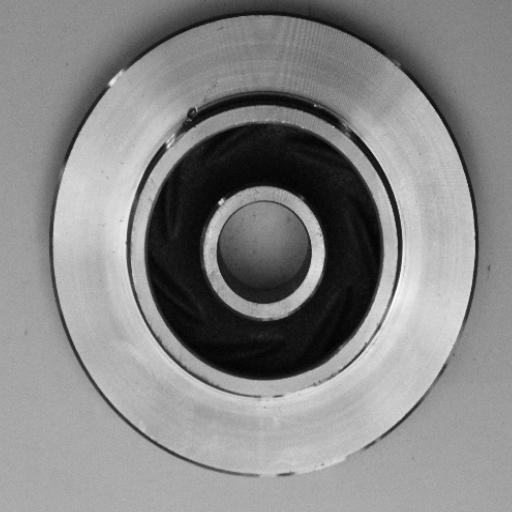crack: (169, 95, 208, 151)
scratch: (245, 372, 338, 411), (272, 448, 358, 490)
unpolished_casting: (50, 7, 482, 483)
